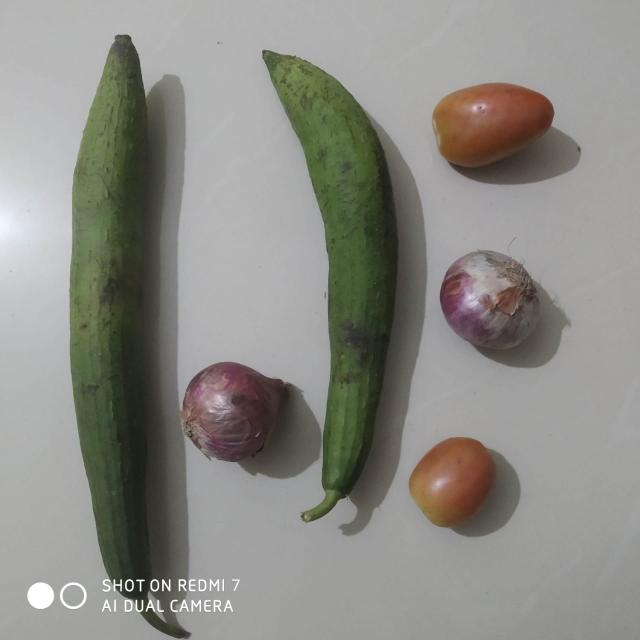Organik: (45, 18, 176, 575), (284, 30, 410, 527), (416, 64, 578, 179), (432, 246, 560, 362), (406, 426, 510, 542), (184, 361, 293, 468)
